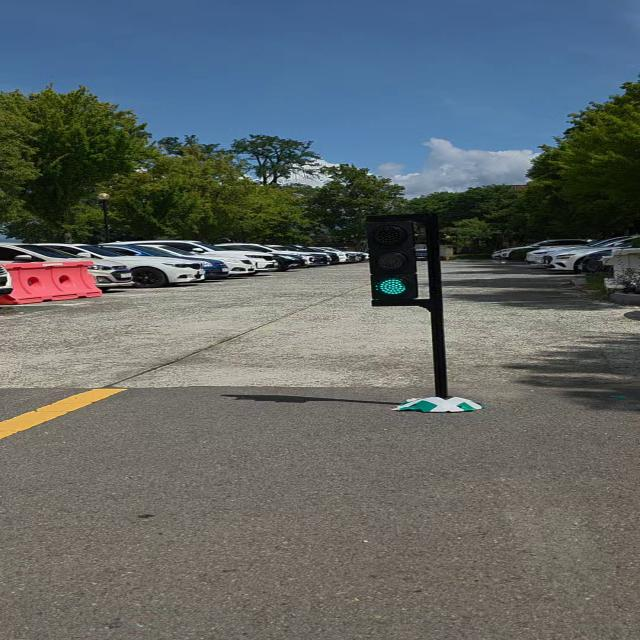green: (366, 217, 422, 305)
